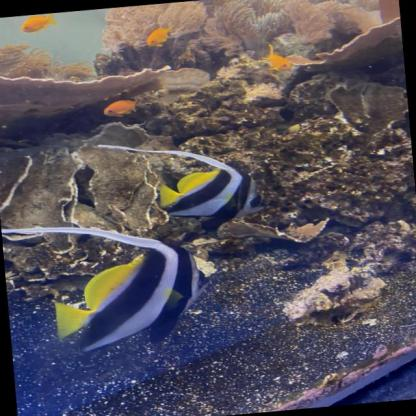fish: (13, 212, 210, 356), (147, 136, 273, 230), (99, 96, 138, 120), (15, 12, 57, 34), (264, 48, 294, 72), (139, 27, 169, 49)
